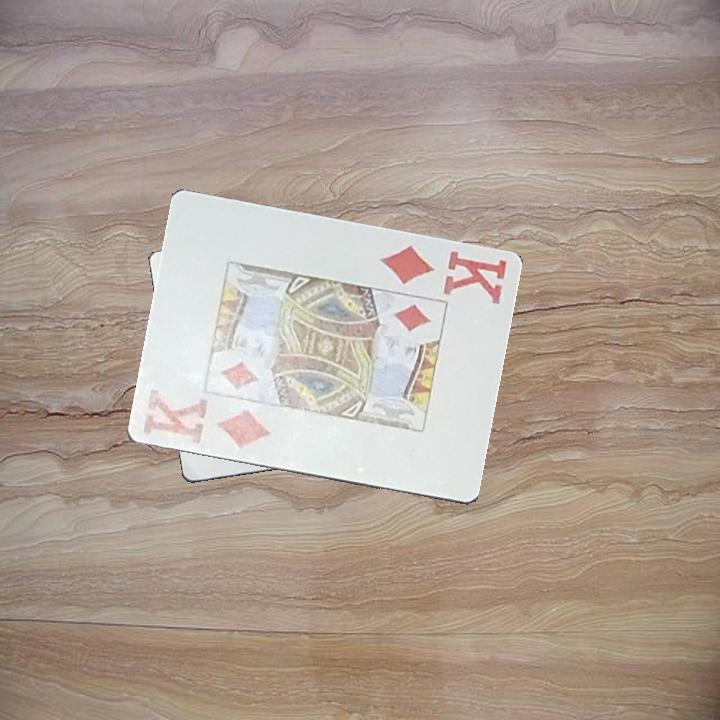Kd: (138, 385, 273, 457), (375, 242, 509, 308)
